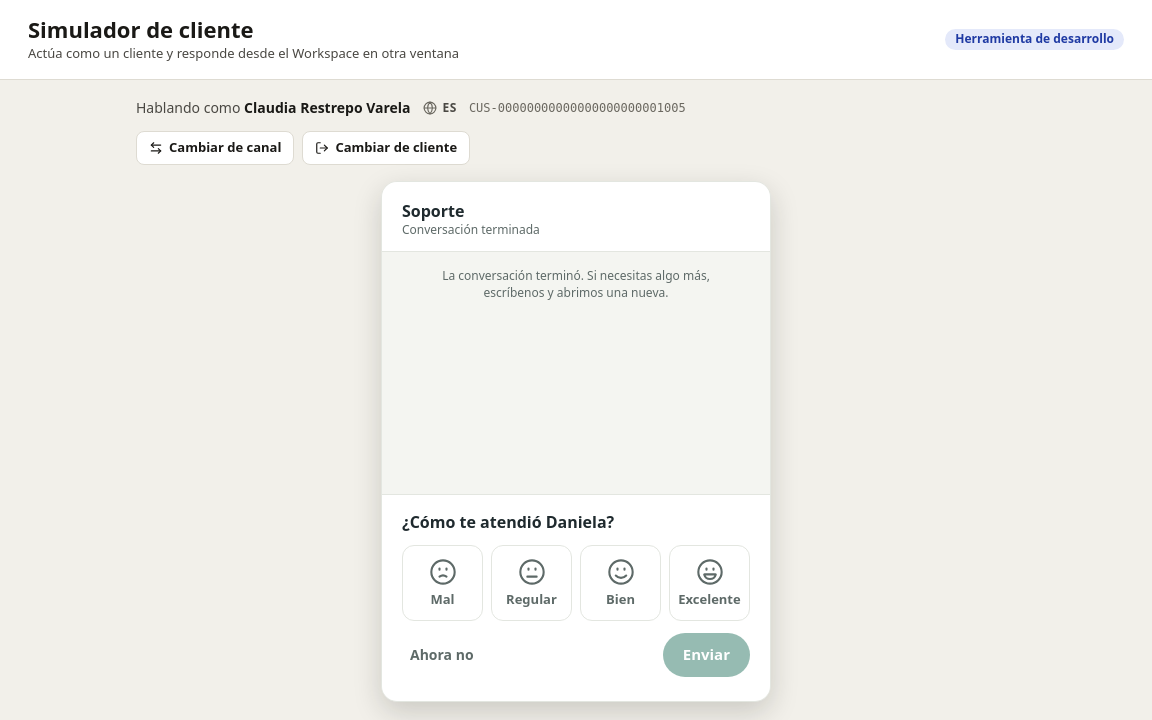
it: satisfaction survey (slice 7) › sends the pick with its comment, thanks, and gives the composer back
Expected: the form "¿Cómo te atendió Daniela?" is shown, [382,494,770,701]
Click the radio button labelled "Excelente" at (710, 583), box [669,545,750,621]
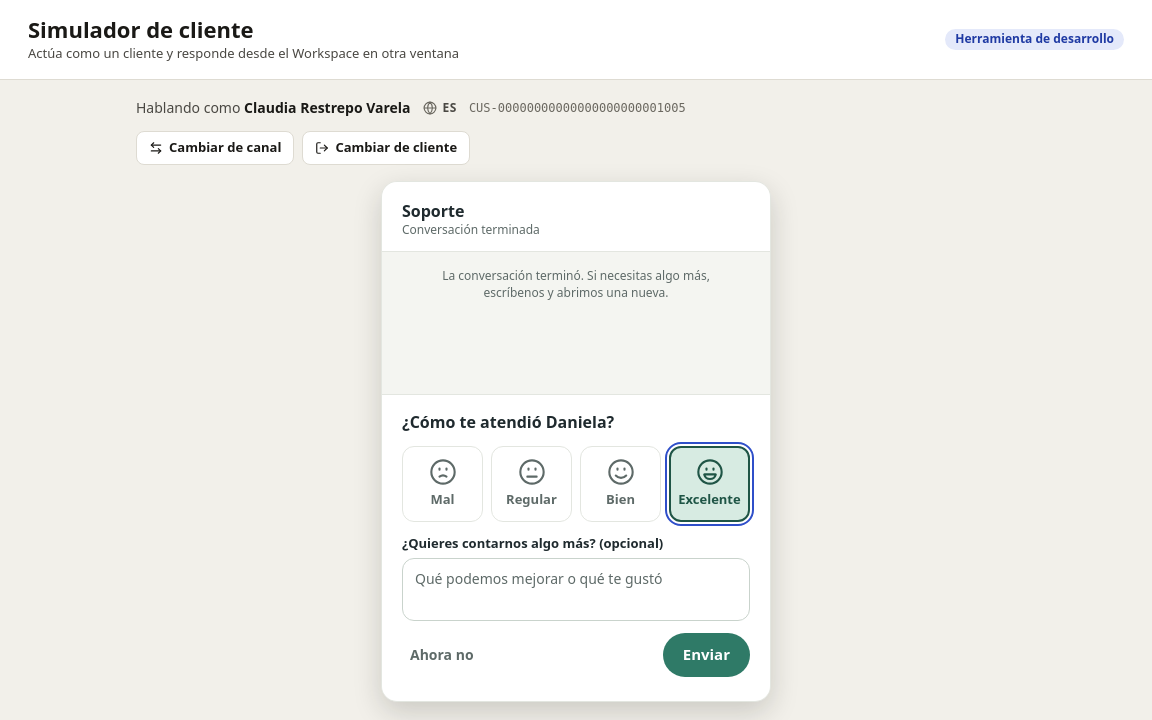
Expected: the button "Enviar" does not have attribute aria-disabled, [663,633,750,677]
Expected: the radio button labelled "Excelente" is checked, [669,446,750,522]
Type "  Muy amable  " into the text box labelled "¿Quieres contarnos algo más? (opcional)" at (576, 590), box [402,558,750,621]
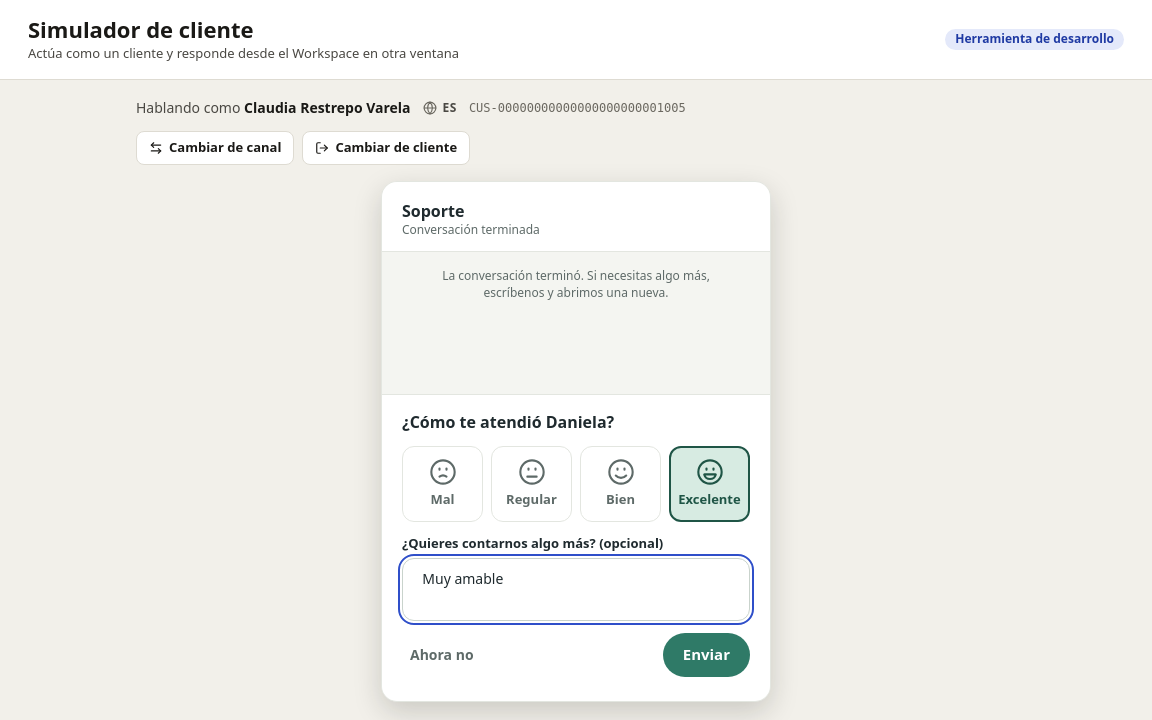
Click the button "Enviar" at (706, 655), box [663,633,750,677]
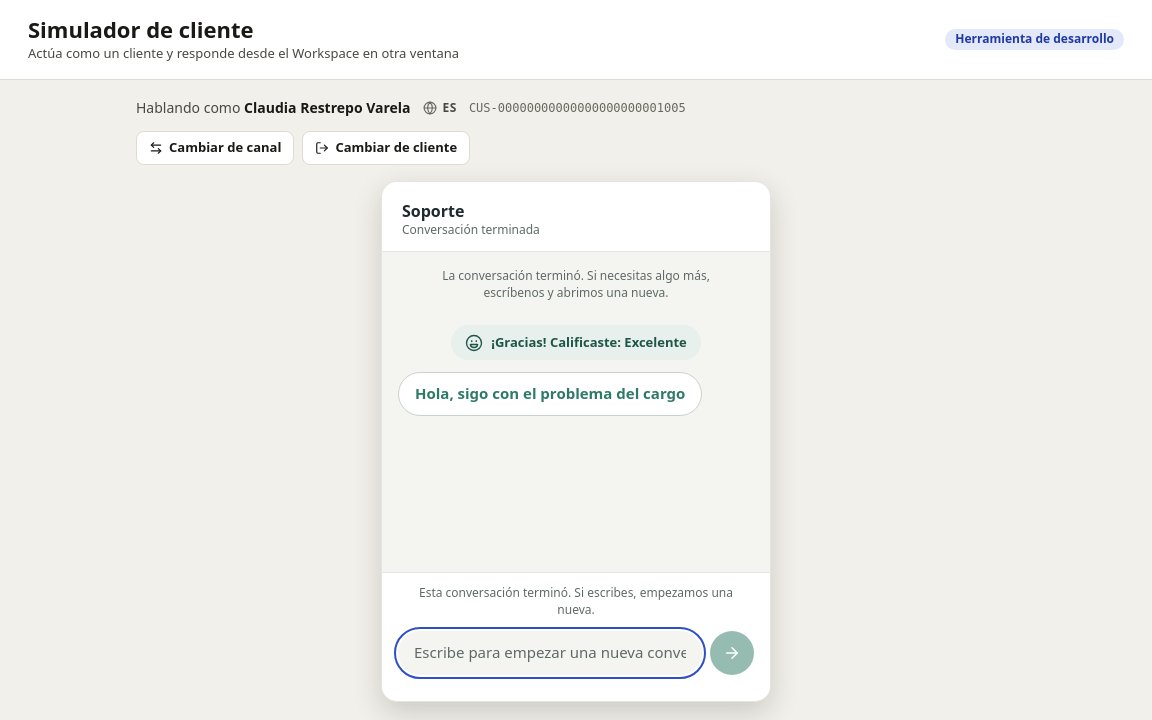
Expected: the text "¡Gracias! Calificaste: Excelente" is shown, [451,325,701,360]
Expected: the text "¿Cómo te atendió Daniela?" is gone
Expected: the text "Esta conversación terminó. Si escribes, empezamos una nueva." is shown, [382,572,770,619]
